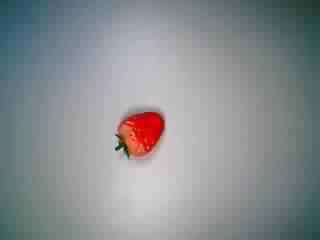strawberry: (95, 99, 168, 163)
